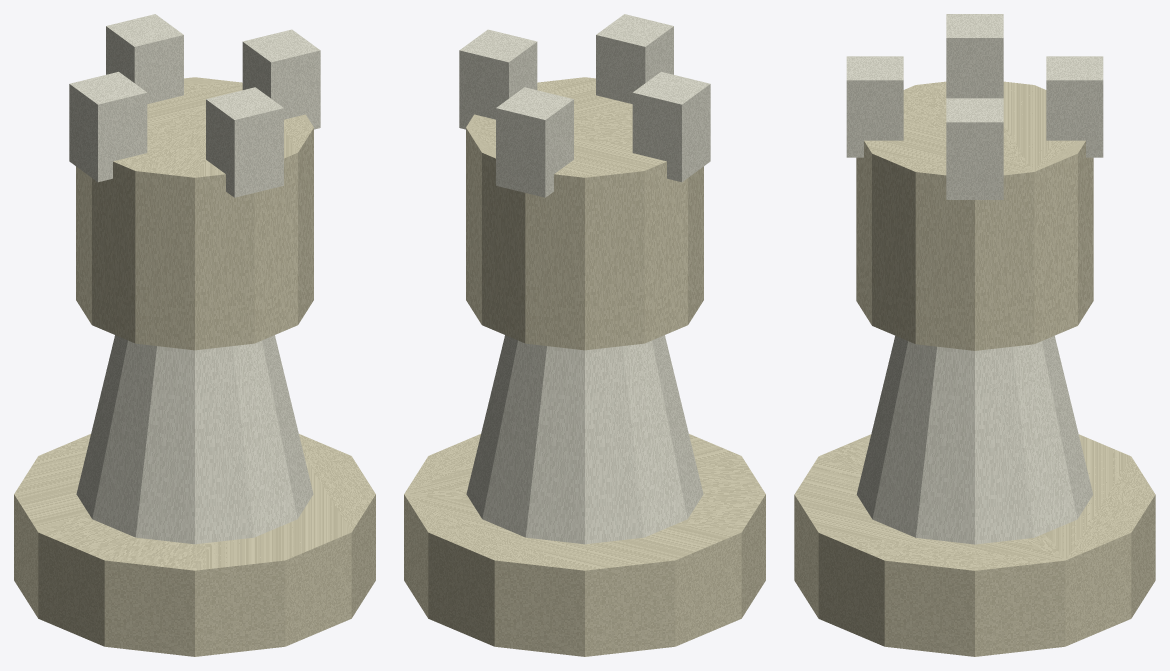
The model's file is chess_rook.glb.
3 renders of one model, left to right at view 1: azimuth 30°, elevation 25°; view 2: azimuth 150°, elevation 25°; view 3: azimuth 270°, elevation 25°, orthographic.
Visible parts, largest first — view 1: base, tower, pedestal, crenellation (×4); view 2: base, tower, pedestal, crenellation (×4); view 3: tower, base, pedestal, crenellation (×4).
Part boxes in pixels (left/top/right/bottom): base: left=14, top=434, right=375, bottom=656; tower: left=76, top=77, right=313, bottom=350; pedestal: left=76, top=335, right=313, bottom=544; crenellation (×4): left=69, top=14, right=320, bottom=197; base: left=404, top=434, right=765, bottom=656; tower: left=466, top=77, right=703, bottom=350; pedestal: left=466, top=335, right=703, bottom=544; crenellation (×4): left=459, top=14, right=710, bottom=197; tower: left=856, top=81, right=1093, bottom=350; base: left=794, top=434, right=1155, bottom=656; pedestal: left=856, top=336, right=1093, bottom=544; crenellation (×4): left=846, top=14, right=1103, bottom=199.
Size of the model in its own units: 0.76 by 1.19 by 0.76.
Materials: 1 (1 with a texture image).
